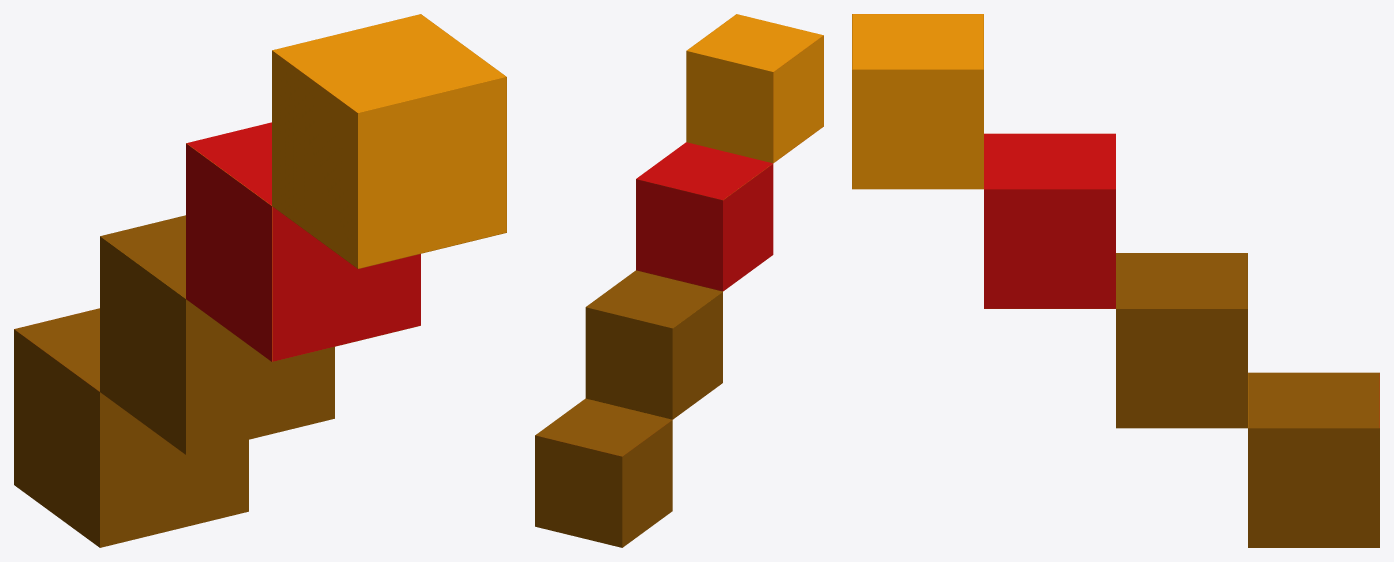
The model's file is Torch.glb.
3 renders of one model, left to right at view 1: azimuth 30°, elevation 25°; view 2: azimuth 150°, elevation 25°; view 3: azimuth 270°, elevation 25°, orthographic. The views are drawn at different scales.
Parts seen in each view (by area): view 1: Torch; view 2: Torch; view 3: Torch.
Boxes of the visible parts, x1,y1,x2,y2 form: Torch: (14,14,506,547); Torch: (535,14,823,547); Torch: (852,14,1379,547).
Bounding box in the file's own units: 0.1 × 0.4 × 0.4.
Materials: 1 (1 with a texture image).
